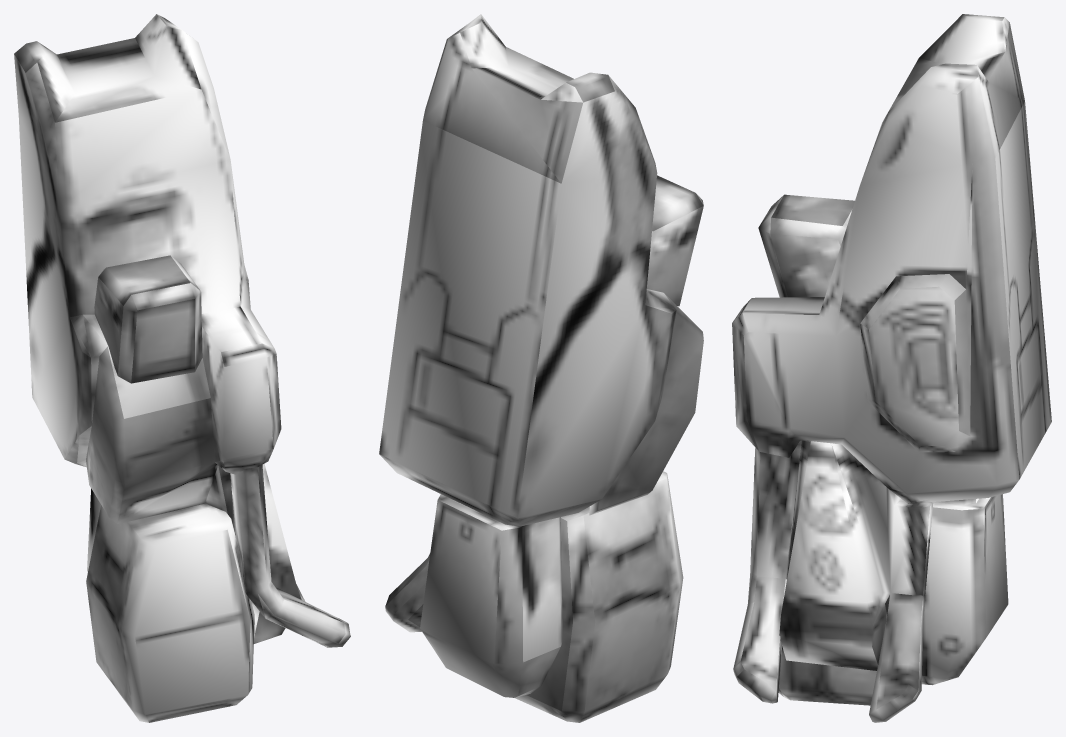
The model's file is l_fore.glb.
3 renders of one model, left to right at view 1: azimuth 30°, elevation 25°; view 2: azimuth 150°, elevation 25°; view 3: azimuth 270°, elevation 25°, orthographic. The views are drawn at different scales.
Parts seen in each view (by area): view 1: l_fore; view 2: l_fore; view 3: l_fore.
Boxes of the visible parts, left/top/right/bottom form: l_fore: left=14, top=14, right=350, bottom=722; l_fore: left=379, top=14, right=703, bottom=722; l_fore: left=732, top=14, right=1051, bottom=722.
Bounding box in the file's own units: 0.3882 × 0.9759 × 0.4384.
Materials: 3 (3 with a texture image).
